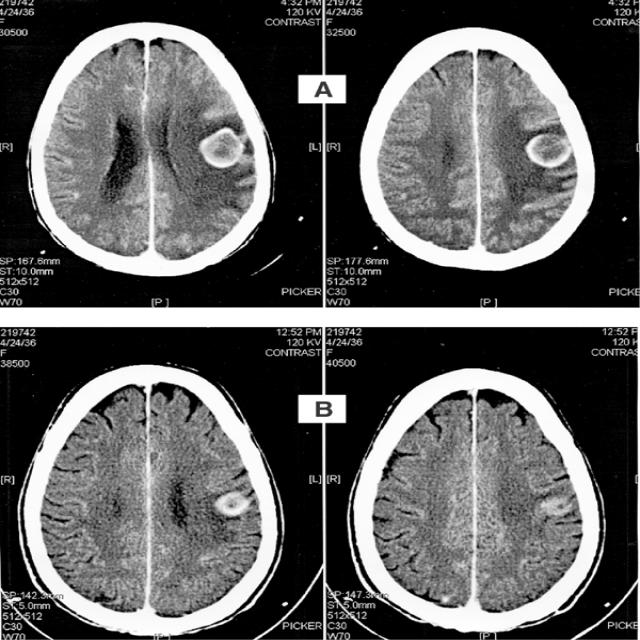Tumor: (198, 129, 257, 175), (523, 130, 573, 173), (208, 487, 256, 526), (534, 488, 581, 520)
